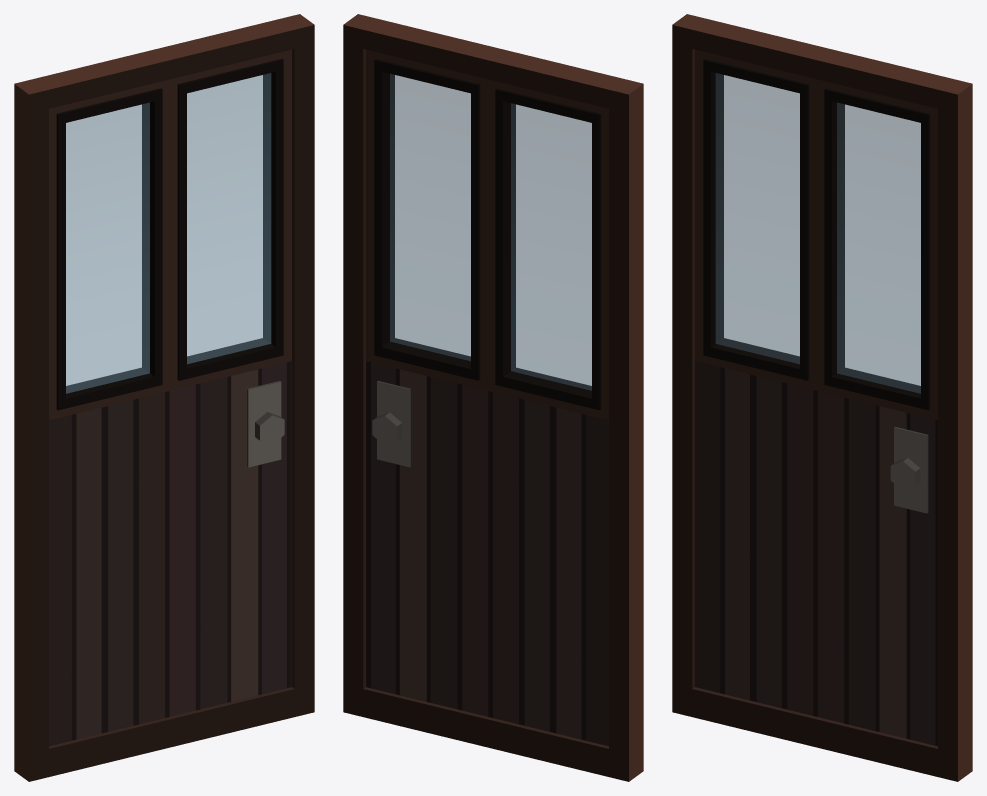
File: Door 9.glb
3 views of the same model, side by side, from view 1: azimuth 30°, elevation 25°; view 2: azimuth 150°, elevation 25°; view 3: azimuth 330°, elevation 25° (orthographic).
Visible parts, largest first — view 1: Door 9A; view 2: Door 9A; view 3: Door 9A.
Boxes of the visible parts, <box> form: Door 9A: <box>14,14,314,781</box>; Door 9A: <box>343,14,643,781</box>; Door 9A: <box>672,14,972,781</box>.
Size of what is drawn, in the model's own units: 1 by 2.3 by 0.1703.
3 materials, 3 textured.
